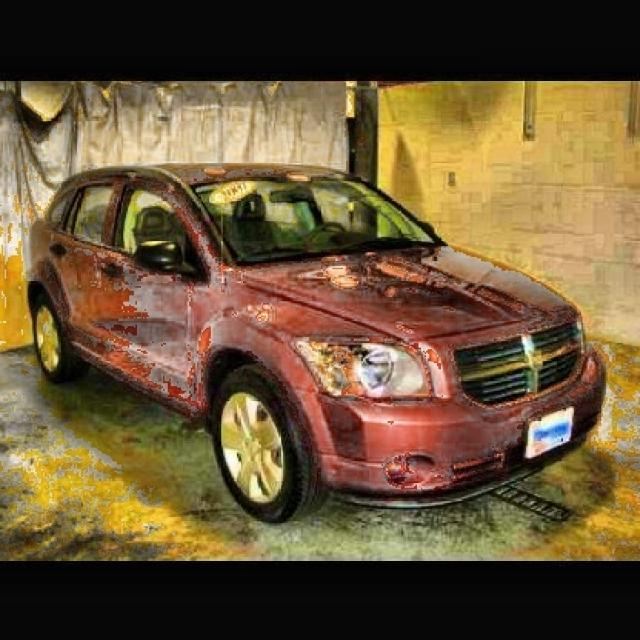maroon: (17, 150, 609, 485)
